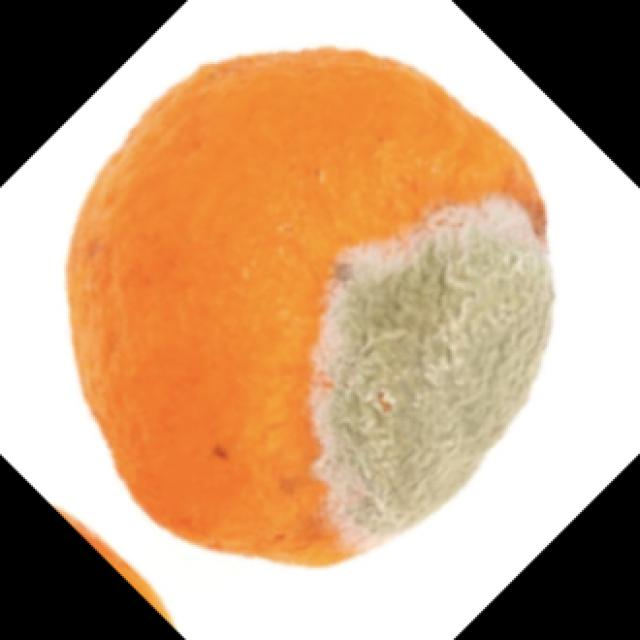sedikit_busuk: (74, 51, 549, 558)
